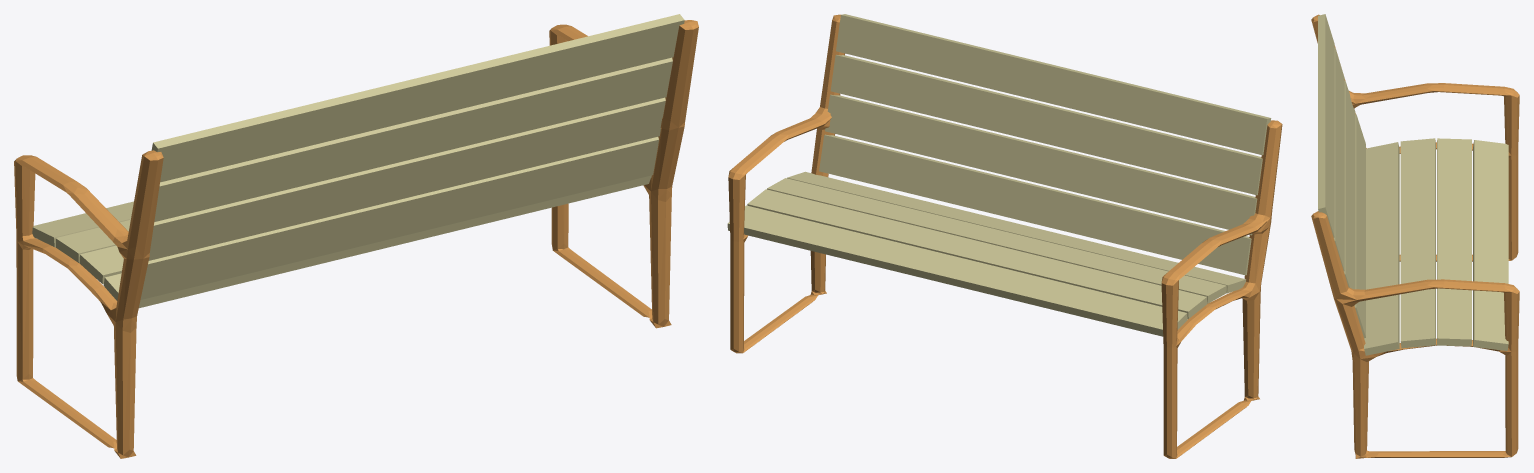
The model's file is Bench.glb.
3 views of the same model, side by side, from view 1: azimuth 30°, elevation 25°; view 2: azimuth 150°, elevation 25°; view 3: azimuth 270°, elevation 25° (orthographic). The views are drawn at different scales.
Parts seen in each view (by area): view 1: New_Game_Object_mat0_0.050; view 2: New_Game_Object_mat0_0.050; view 3: New_Game_Object_mat0_0.050.
Boxes of the visible parts, <box> form: New_Game_Object_mat0_0.050: <box>14,14,698,458</box>; New_Game_Object_mat0_0.050: <box>727,14,1282,458</box>; New_Game_Object_mat0_0.050: <box>1311,14,1519,458</box>.
Size of the model in its own units: 1.57 by 0.8844 by 0.6747.
